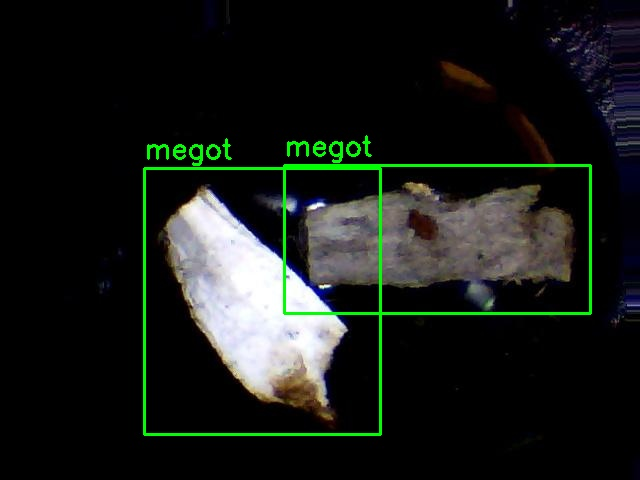megot: (144, 168, 380, 434), (284, 165, 590, 313)
